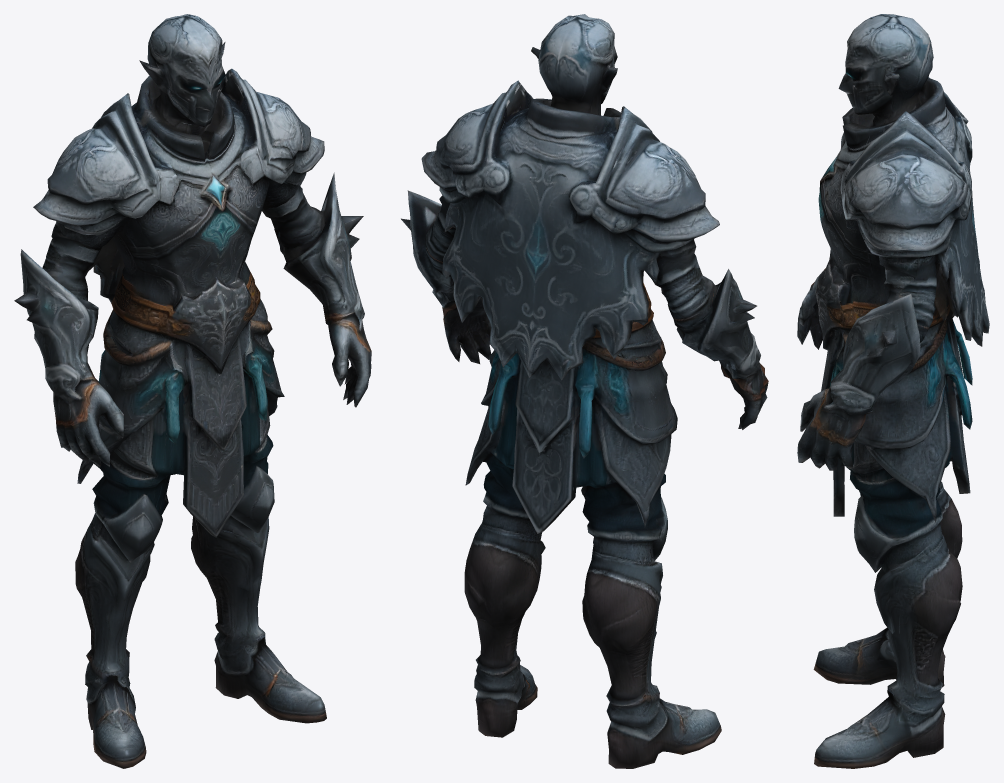
The model's file is summon_texture.glb.
3 views of the same model, side by side, from view 1: azimuth 30°, elevation 25°; view 2: azimuth 150°, elevation 25°; view 3: azimuth 270°, elevation 25° (orthographic). The views are drawn at different scales.
Size of the model in its own units: 1.04 by 2 by 0.4979.
Materials: 1 (1 with a texture image).
